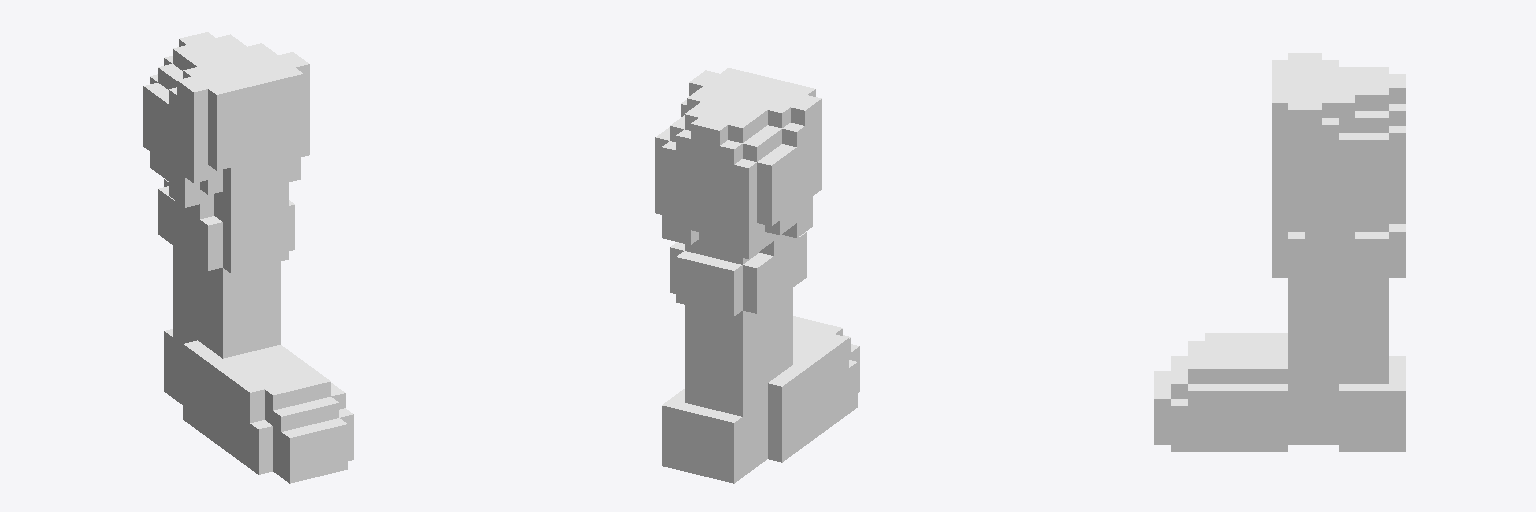
File: Minotaur1-5.obj
3 views of the same model, side by side, from view 1: azimuth 30°, elevation 25°; view 2: azimuth 150°, elevation 25°; view 3: azimuth 270°, elevation 25° (orthographic).
Visible parts, largest first — view 1: object 1; view 2: object 1; view 3: object 1.
Boxes of the visible parts, box(x1,y1,x2,y2) form: object 1: box(143, 32, 353, 483); object 1: box(655, 68, 859, 483); object 1: box(1154, 53, 1405, 451).
Bounding box in the file's own units: 0.8 × 2.3 × 1.5.